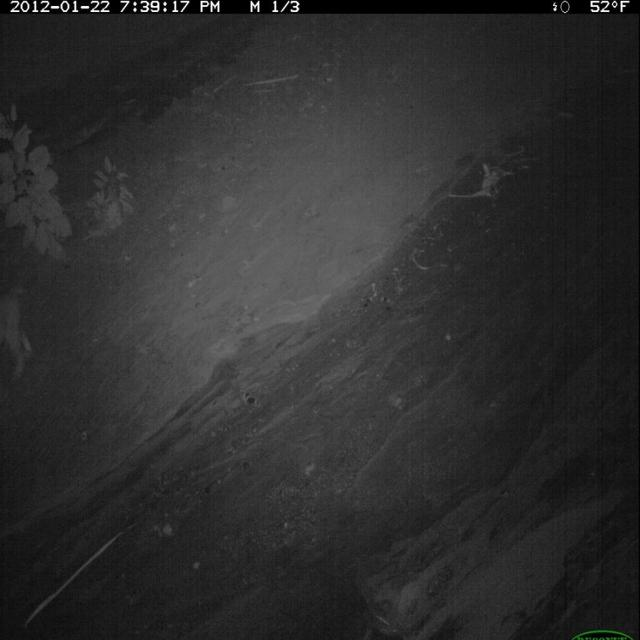bobcat: (3, 282, 36, 389)
